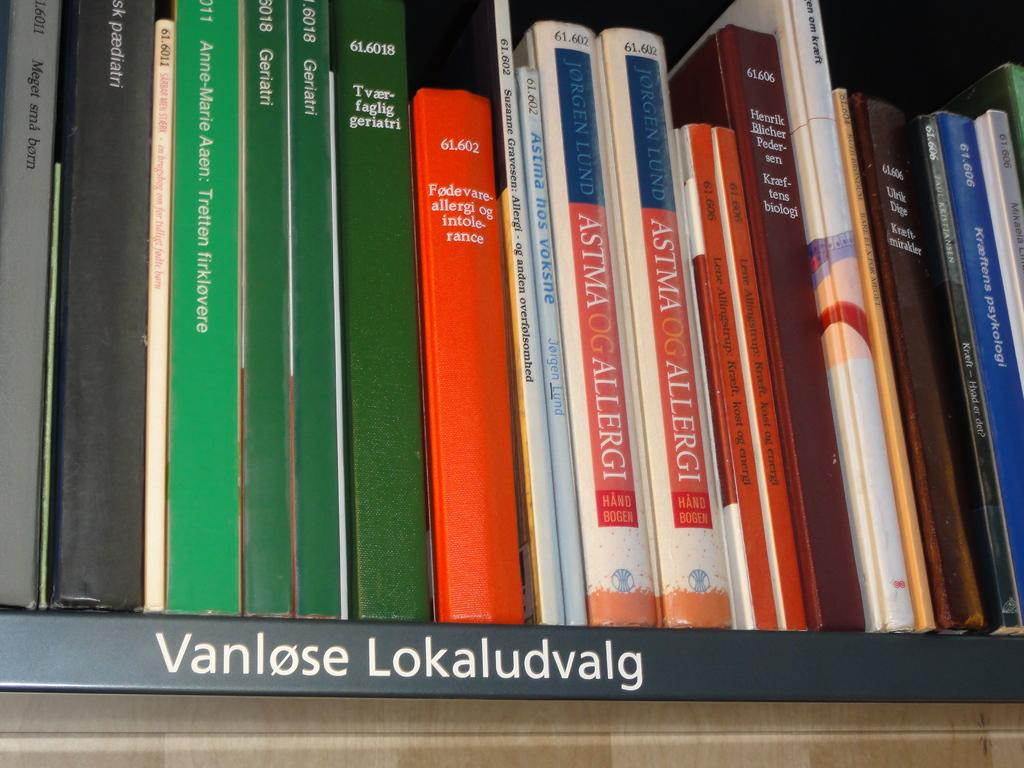Book: (512, 19, 658, 627), (597, 26, 733, 629), (848, 89, 992, 634), (47, 0, 156, 612), (410, 86, 525, 624), (332, 0, 431, 622), (165, 0, 242, 616), (0, 0, 62, 611)
